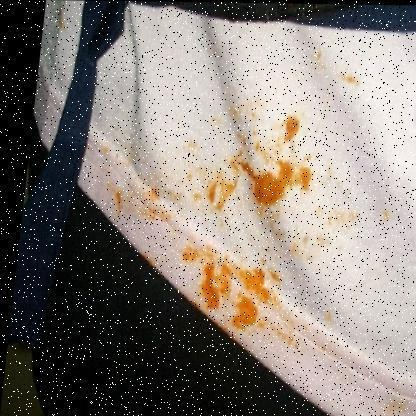kimchi: (203, 115, 316, 222), (195, 249, 294, 307), (105, 180, 187, 218), (228, 309, 305, 332), (304, 226, 357, 254), (100, 141, 142, 171), (175, 126, 201, 167), (325, 68, 361, 91), (267, 332, 312, 350), (379, 399, 408, 415), (179, 244, 195, 267), (319, 305, 333, 329), (54, 8, 69, 29), (378, 209, 393, 225)
